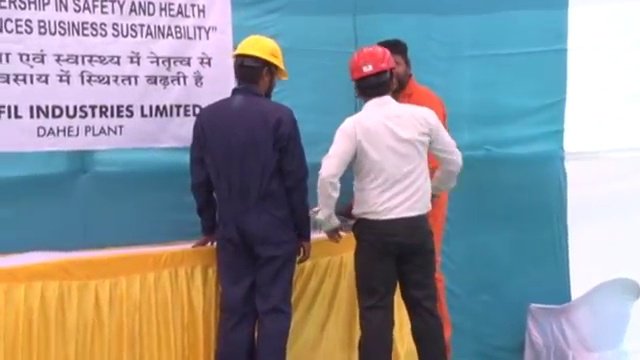helmet: (232, 33, 290, 79), (347, 43, 397, 82)
helmet_off: (381, 39, 414, 92)
helmet_on: (231, 32, 292, 100), (345, 42, 397, 104)
person: (318, 41, 464, 360), (187, 34, 308, 359), (379, 38, 453, 260)
